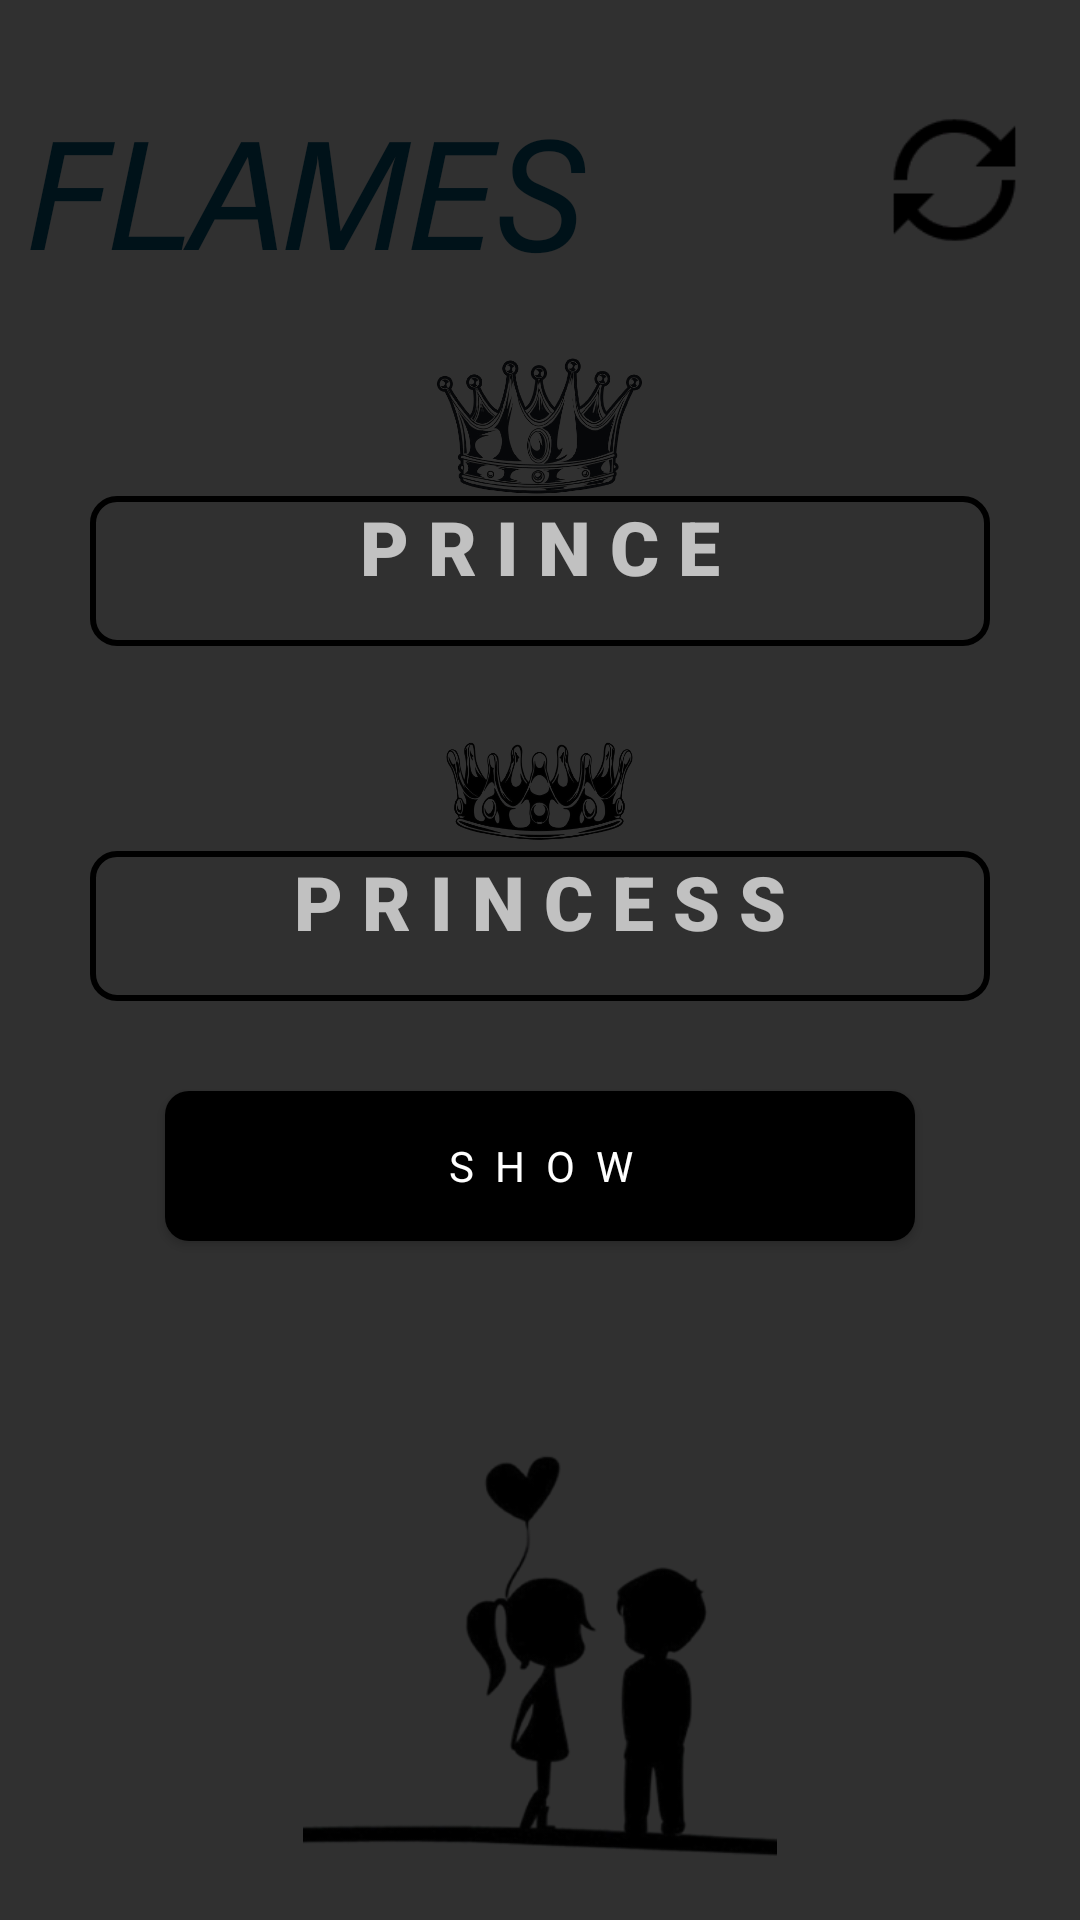

Point at icon controls on the screen. Image size 1080px×1920px, points as (x=x, y=y).
reset: (x=954, y=180)
